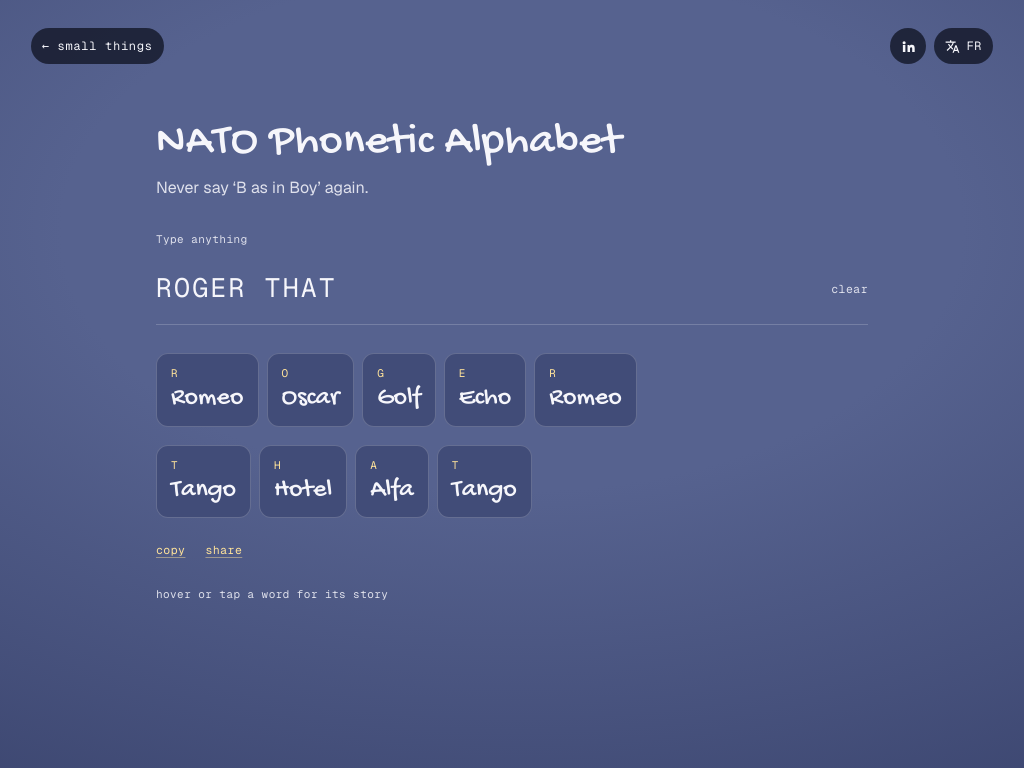
Scenario: Nato › reads the spelling aloud, lighting each word, and can stop
Type "hi" into the field labelled "Type anything" at (488,290), box [156,255,819,324]
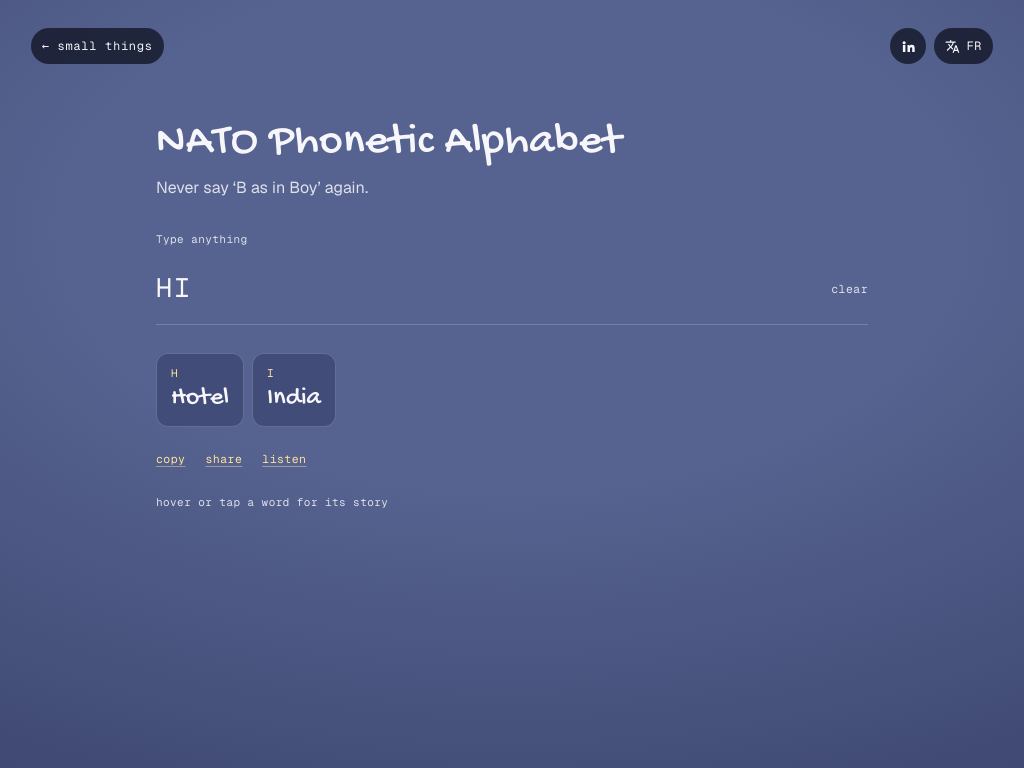
Click the button "listen" at (284,459), box [262,449,306,469]
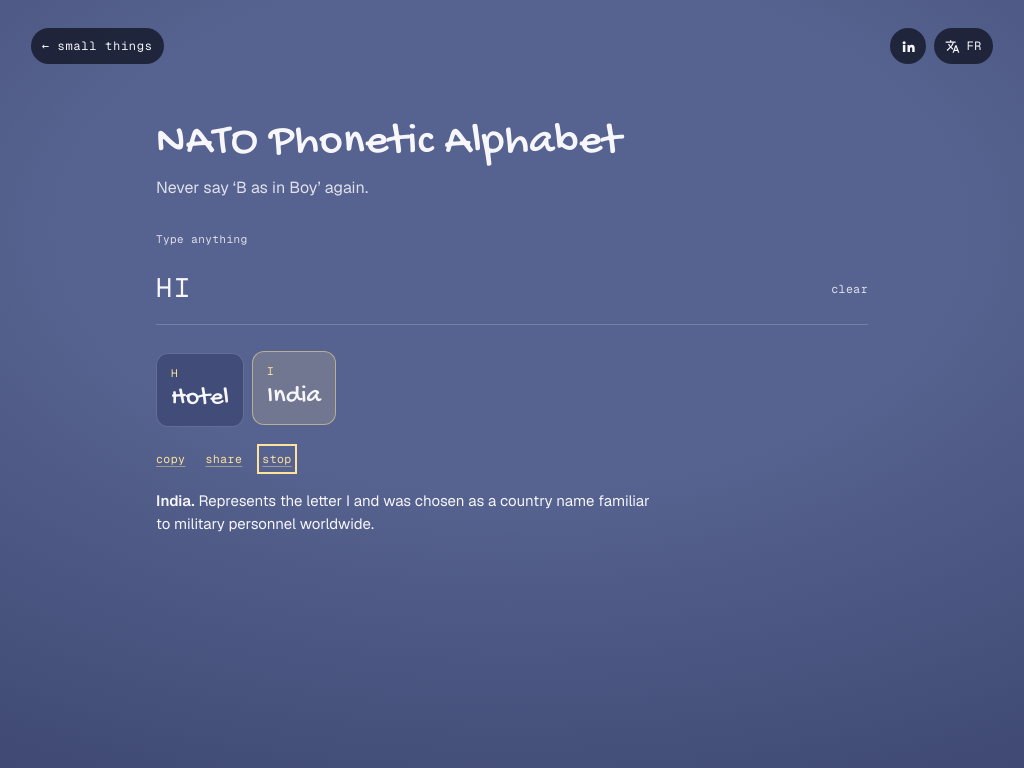
Now the text "India." is shown, box [156,491,195,510]
Click the button "stop" at (277,459), box [262,449,292,469]
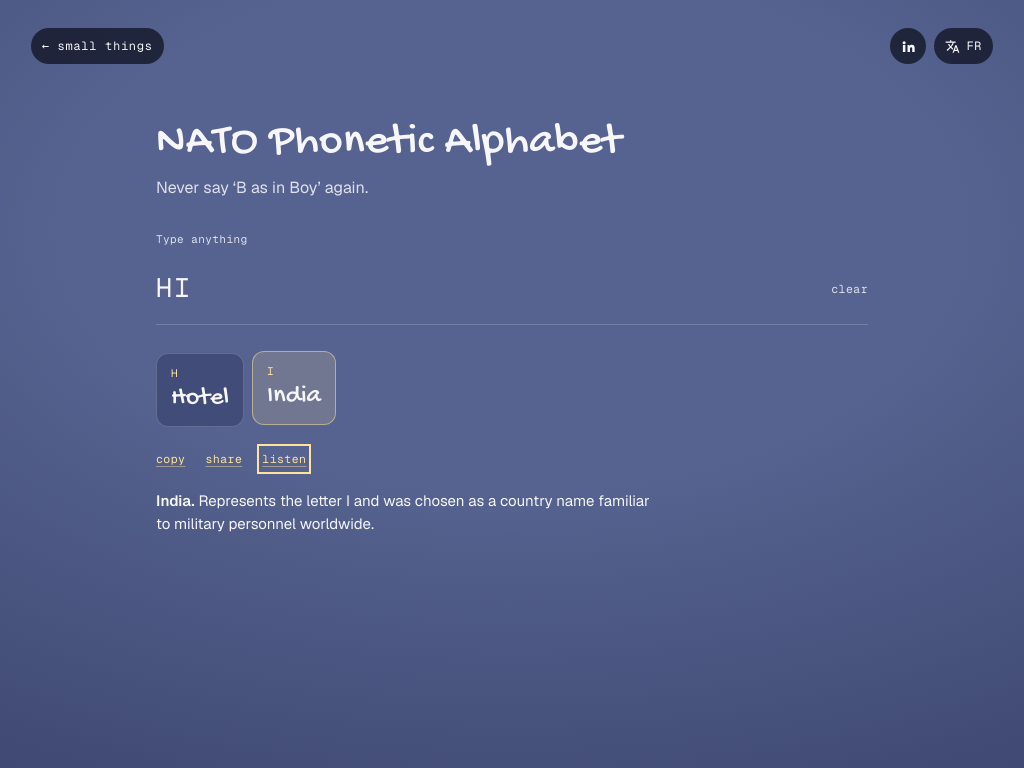
Now the button "listen" is shown, box [262,449,306,469]
